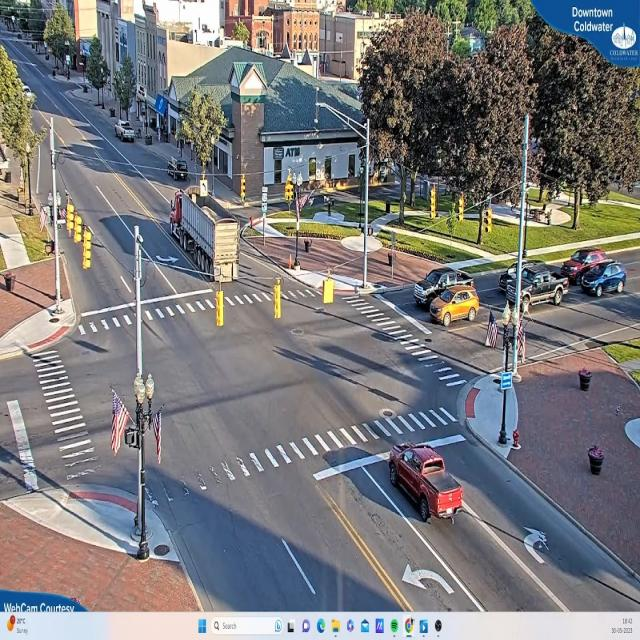car: (389, 447, 466, 526), (506, 267, 564, 315), (432, 285, 483, 331), (414, 264, 474, 302), (574, 259, 628, 297), (499, 256, 528, 290), (164, 156, 190, 180), (116, 123, 136, 143)
truck: (170, 190, 240, 281)
